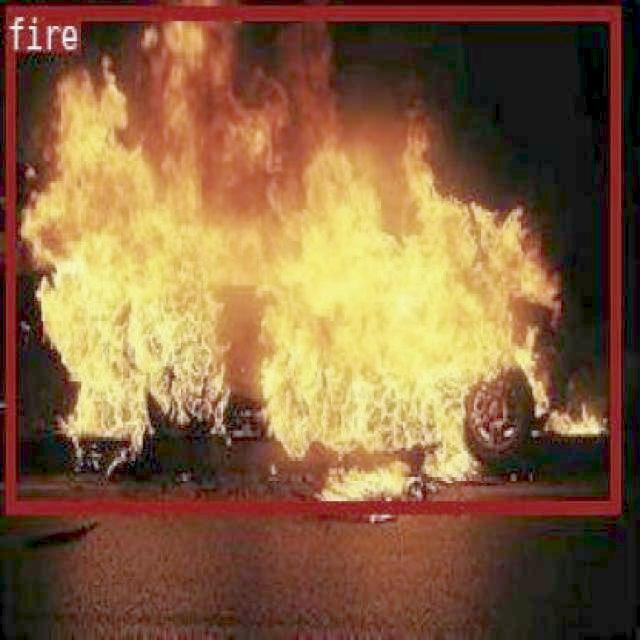fire: (4, 3, 616, 509)
